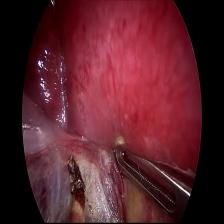Grasper: (115, 138, 193, 221)
Hook: (61, 157, 91, 224)
